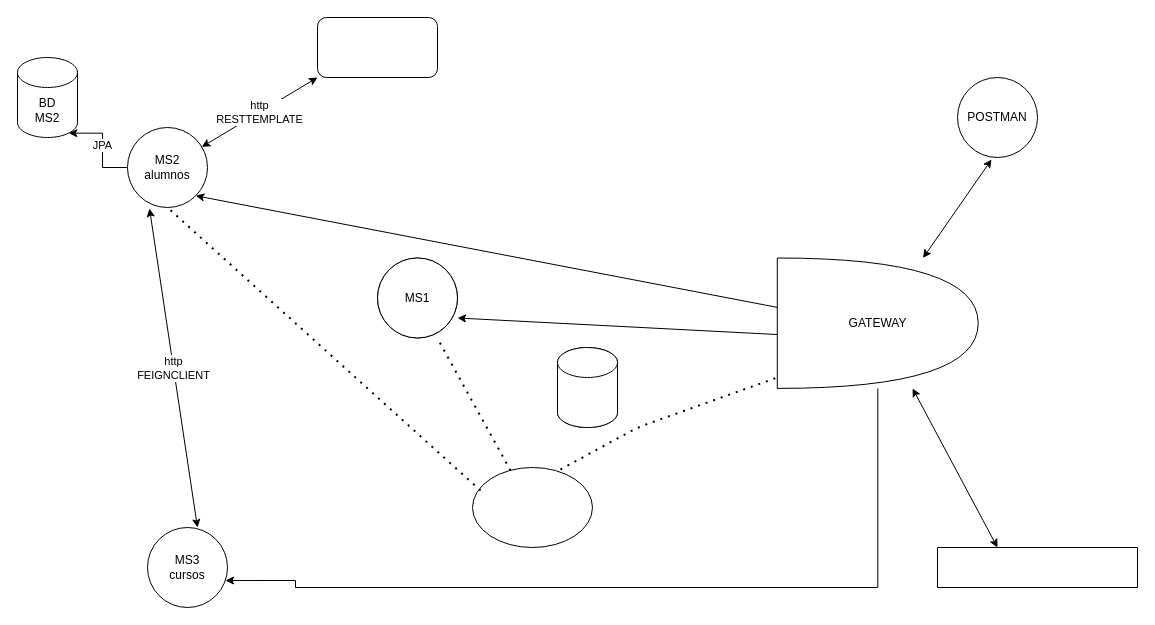
Image size: 1155x625. Some labels were removed from this diagram. The shapes that lost their labels are listed below. From the top down, each one's centre as x and y in pixels, then its label:
At point 377,47: "PAYPAL CHUCK NORRIS".
At point 532,507: "EUREKA DNS".
At point 1037,567: "angular".
